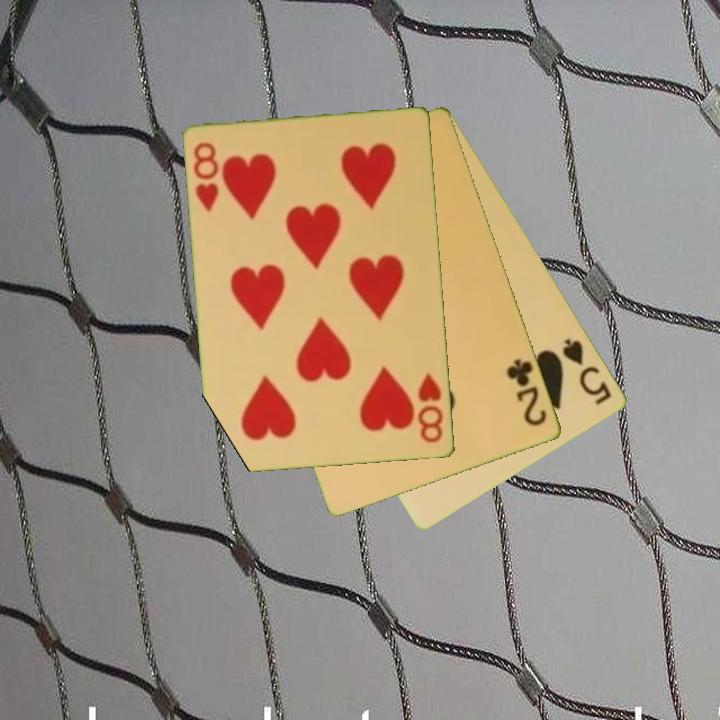2c: (503, 355, 550, 429)
5s: (559, 335, 615, 408)
8h: (190, 139, 222, 215), (415, 370, 446, 446)
